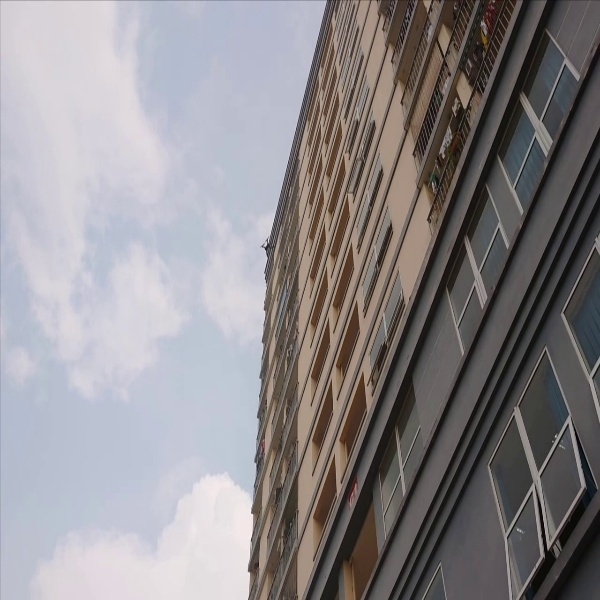drone: (260, 231, 275, 260)
